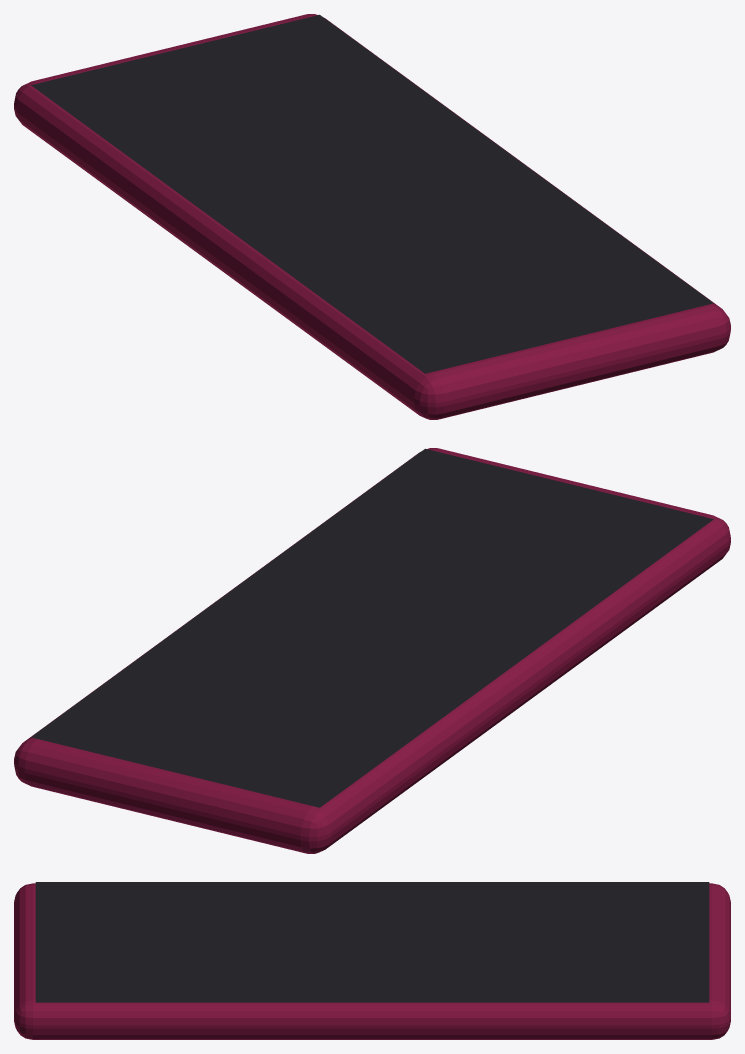
File: Phone_398.glb
3 views of the same model, one above another, from view 1: azimuth 30°, elevation 25°; view 2: azimuth 150°, elevation 25°; view 3: azimuth 270°, elevation 25° (orthographic). The views are drawn at different scales.
Parts seen in each view (by area): view 1: Phone_Screen, Phone_Body; view 2: Phone_Screen, Phone_Body; view 3: Phone_Screen, Phone_Body.
Boxes of the visible parts, <box> form: Phone_Screen: <box>31,14,713,373</box>; Phone_Body: <box>14,14,730,419</box>; Phone_Screen: <box>31,448,713,807</box>; Phone_Body: <box>14,448,730,853</box>; Phone_Screen: <box>35,882,709,1002</box>; Phone_Body: <box>14,883,730,1039</box>.
Size of the model in its own units: 0.0709 by 0.0097 by 0.164.
